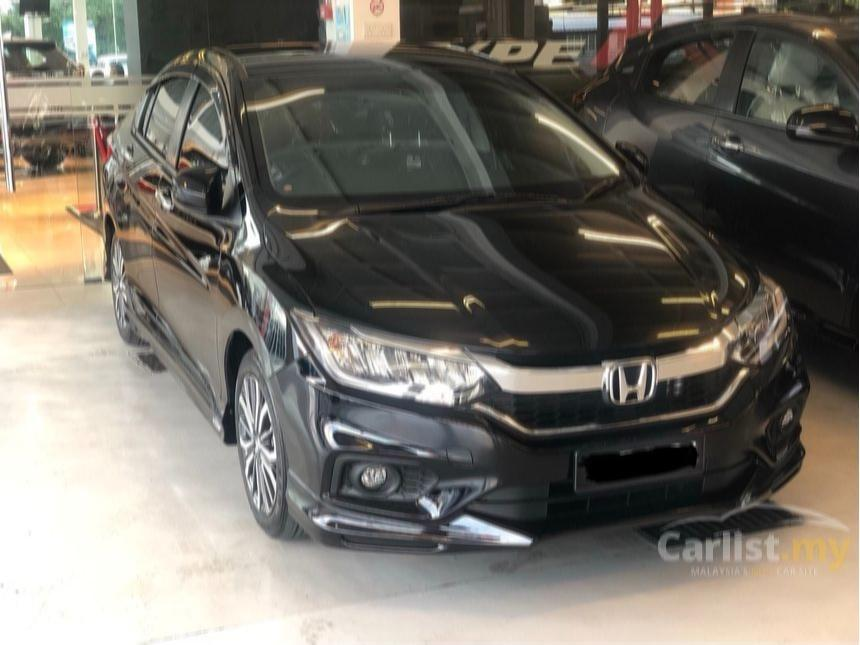Car hood: (245, 186, 759, 373)
Driver-s door - -F-R-: (691, 10, 860, 357), (150, 44, 250, 444)
Fender - -F-R-: (204, 189, 312, 443)
Front bumper: (259, 326, 821, 551)
Headlight - -R-: (285, 309, 500, 413)
Passenger-s door - -R-R-: (593, 7, 745, 220), (106, 36, 196, 361)
Side bumper - -L-: (119, 274, 231, 442)
Side mirror - -L-: (606, 135, 657, 189)
Side mirror - -R-: (165, 160, 237, 228), (782, 104, 860, 166)
